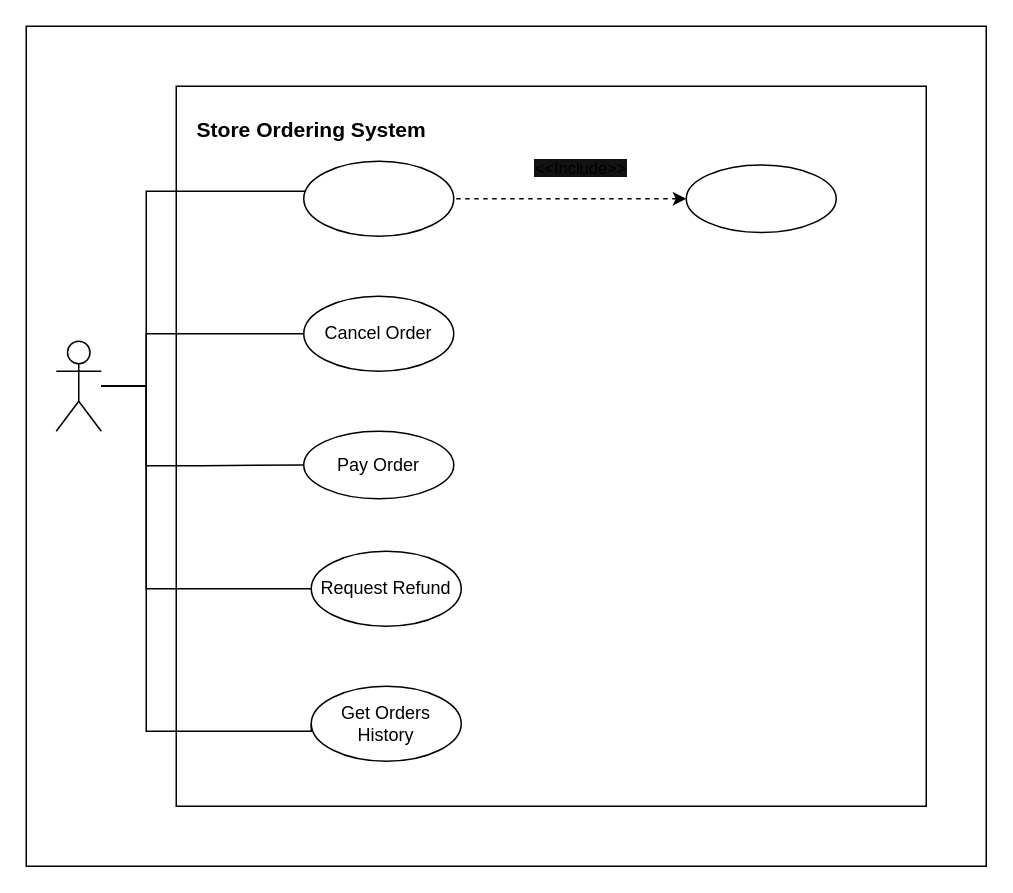
Image size: 1013x893. Some labels were removed from this diagram. Here are the shapes that lost their labels. From the top down, the centre of each, then its label:
At [378,198]: "Create an Order".
At [760,198]: "Specify order details".
At [78,385]: "Client".
